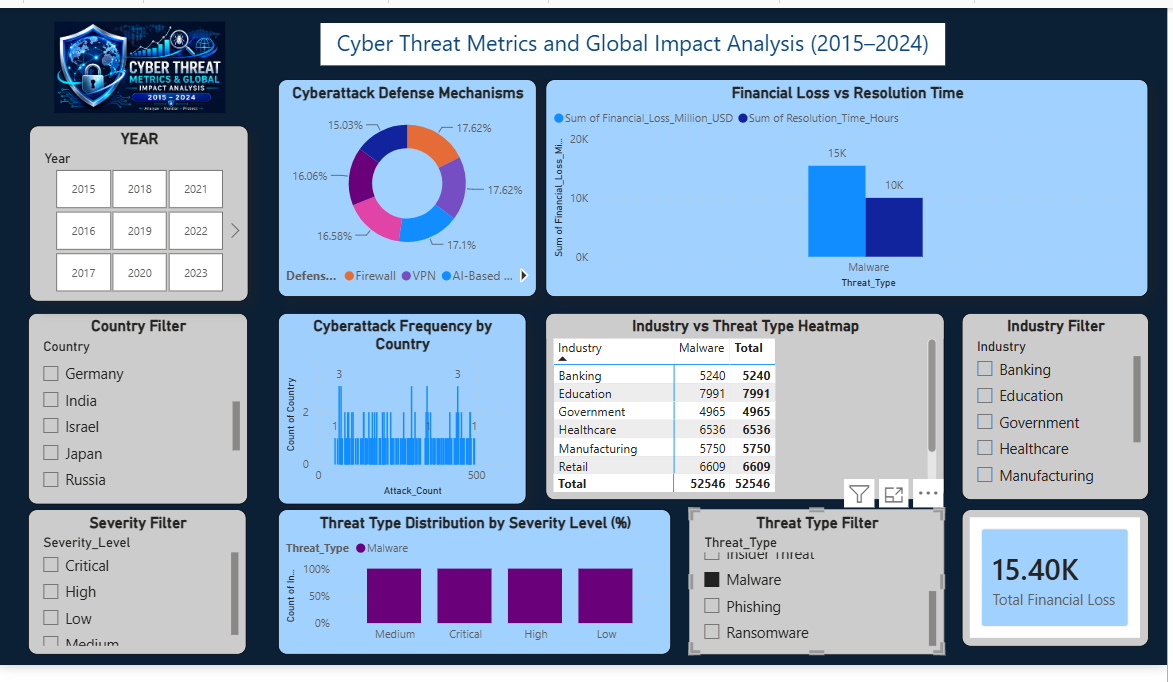

The page's visual inventory and layout, read from the dashboard file:
{"tool":"powerbi","page":{"name":"Page 1","canvas":[1280,720],"ordinal":0},"visuals":[{"type":"cardVisual","fields":{"Data":["Cyber_Threat_Data.Total Financial Loss"]},"box":[1055.1,548.6,204.8,150.2],"z":0},{"type":"donutChart","title":"Cyberattack Defense Mechanisms","fields":{"Category":["Cyber_Threat_Data.Defense_Mechanism"],"Y":["CountNonNull(Cyber_Threat_Data.Incident_ID)"]},"box":[306.6,78.1,283.4,238.6],"z":1000},{"type":"clusteredColumnChart","title":"Financial Loss vs Resolution Time","fields":{"Category":["Cyber_Threat_Data.Threat_Type"],"Y":["Sum(Cyber_Threat_Data.Financial_Loss_Million_USD)","Sum(Cyber_Threat_Data.Resolution_Time_Hours)"]},"box":[599.5,78.2,660.4,238.3],"z":2000},{"type":"clusteredColumnChart","title":"Cyberattack Frequency by Country","fields":{"Y":["CountNonNull(Cyber_Threat_Data.Country)"],"Category":["Cyber_Threat_Data.Attack_Count"]},"box":[306.6,333.9,271.8,209.8],"z":3000},{"type":"pivotTable","title":"Industry vs Threat Type Heatmap","fields":{"Rows":["Cyber_Threat_Data.Industry"],"Columns":["Cyber_Threat_Data.Threat_Type"],"Values":["Sum(Cyber_Threat_Data.Attack_Count)"]},"box":[599.5,333.9,436.9,204.8],"z":4000},{"type":"hundredPercentStackedColumnChart","title":"Threat Type Distribution by Severity Level (%)","fields":{"Category":["Cyber_Threat_Data.Severity_Level"],"Y":["CountNonNull(Cyber_Threat_Data.Incident_ID)"],"Series":["Cyber_Threat_Data.Threat_Type"]},"box":[306.6,548.6,430.7,158.9],"z":5000},{"type":"slicer","title":"Country Filter","fields":{"Values":["Cyber_Threat_Data.Country"]},"box":[33.5,333.9,240.8,209.8],"z":6000},{"type":"slicer","title":"Industry Filter","fields":{"Values":["Cyber_Threat_Data.Industry"]},"box":[1055.1,333.9,204.8,204.8],"z":7000},{"type":"slicer","title":"Threat Type Filter","fields":{"Values":["Cyber_Threat_Data.Threat_Type"]},"box":[757.2,548.6,279.3,158.9],"z":8000},{"type":"slicer","title":"Severity Filter","fields":{"Values":["Cyber_Threat_Data.Severity_Level"]},"box":[33.5,548.6,239.6,158.9],"z":9000},{"type":"textbox","box":[352.8,15.9,684,46.3],"z":10000},{"type":"slicer","title":"YEAR","fields":{"Values":["Cyber_Threat_Data.Year"]},"box":[33.8,129.1,240.1,193],"z":11000},{"type":"image","box":[61.5,15.7,187,100.1],"z":12000}]}

Visuals, with their boxes in screenshot pixels (x1, y1, x2, y2):
cardVisual - Cyber_Threat_Data.Total Financial Loss: bbox=(976, 511, 1168, 652)
"Cyberattack Defense Mechanisms" donutChart: bbox=(275, 70, 541, 294)
"Financial Loss vs Resolution Time" clusteredColumnChart: bbox=(549, 70, 1168, 293)
"Cyberattack Frequency by Country" clusteredColumnChart: bbox=(275, 310, 530, 506)
"Industry vs Threat Type Heatmap" pivotTable: bbox=(549, 310, 959, 502)
"Threat Type Distribution by Severity Level (%)" hundredPercentStackedColumnChart: bbox=(275, 511, 679, 660)
"Country Filter" slicer: bbox=(19, 310, 245, 506)
"Industry Filter" slicer: bbox=(976, 310, 1168, 502)
"Threat Type Filter" slicer: bbox=(697, 511, 959, 660)
"Severity Filter" slicer: bbox=(19, 511, 244, 660)
textbox: bbox=(318, 12, 959, 55)
"YEAR" slicer: bbox=(19, 118, 244, 299)
image: bbox=(45, 12, 221, 105)
